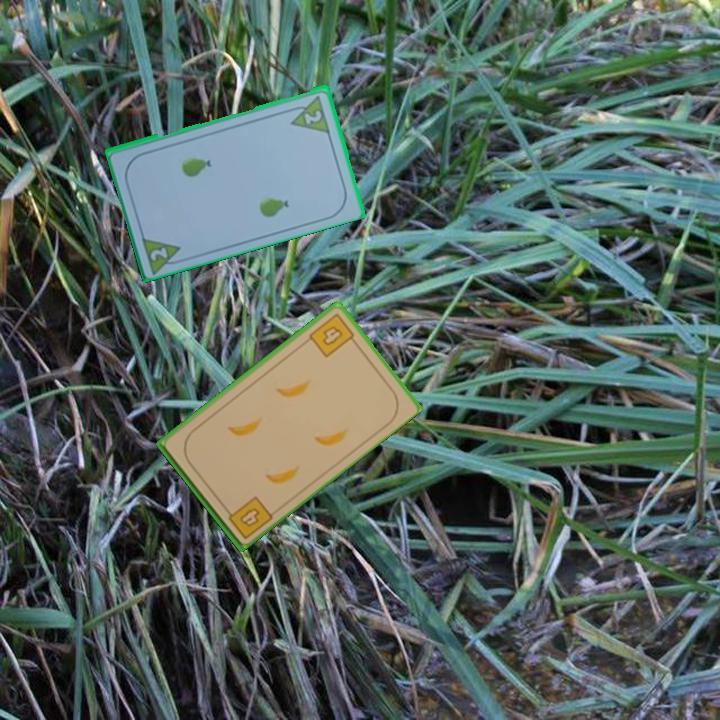2p: (301, 106, 325, 127), (146, 243, 171, 263)
4b: (305, 309, 360, 360), (220, 492, 275, 542)
